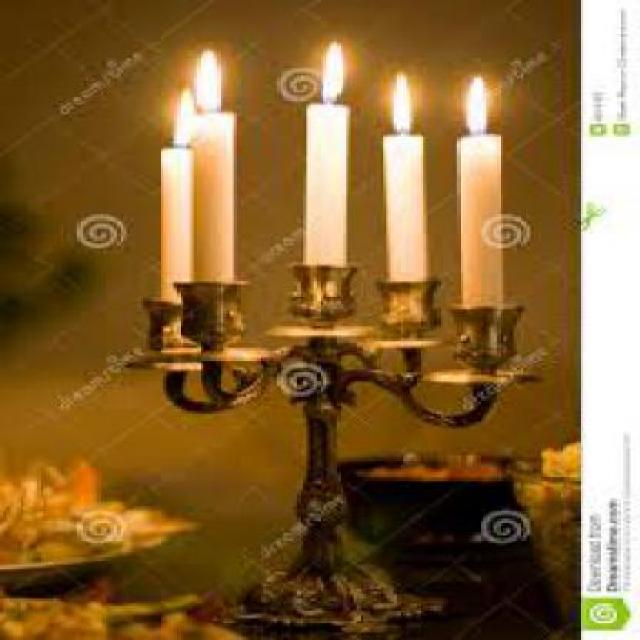fire: (160, 78, 206, 154), (380, 67, 426, 142), (177, 45, 229, 109), (451, 76, 500, 142), (314, 34, 351, 108)
